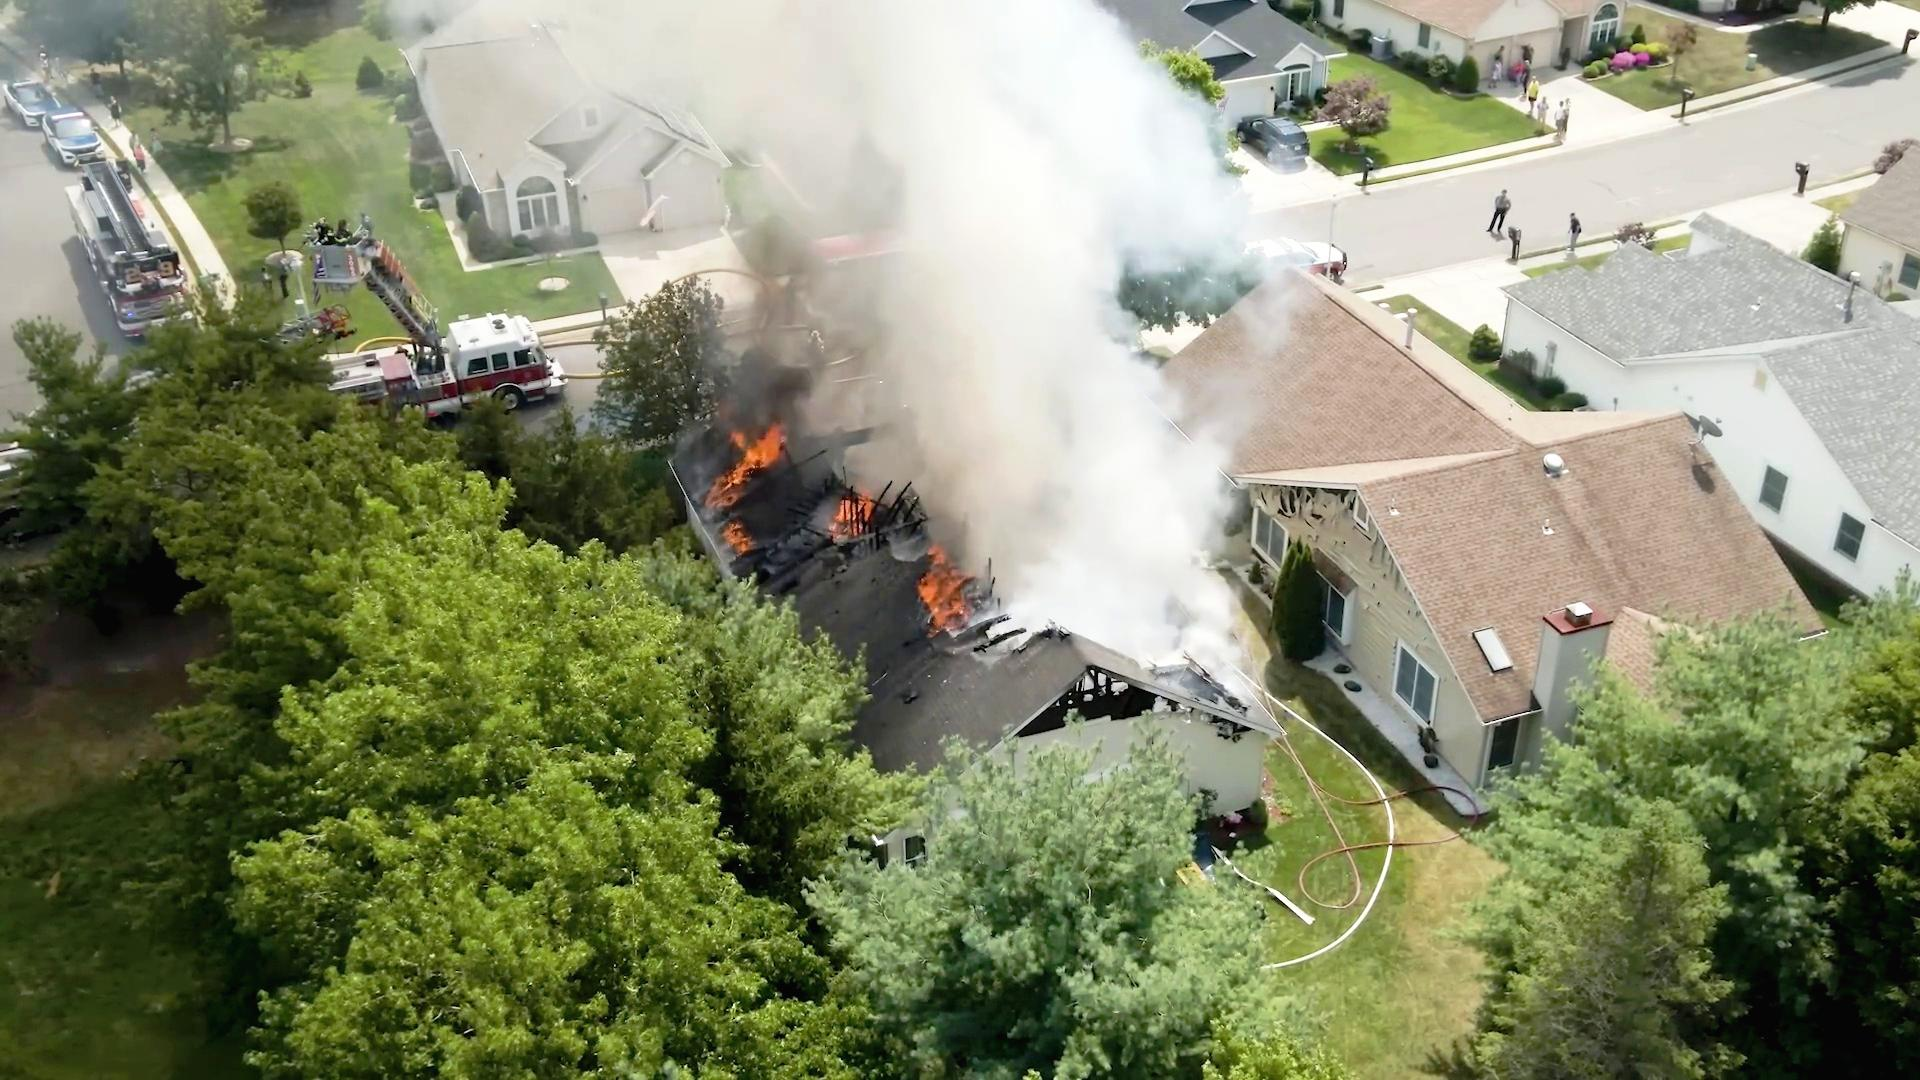smoke: (918, 111, 1129, 492), (775, 3, 1083, 174)
